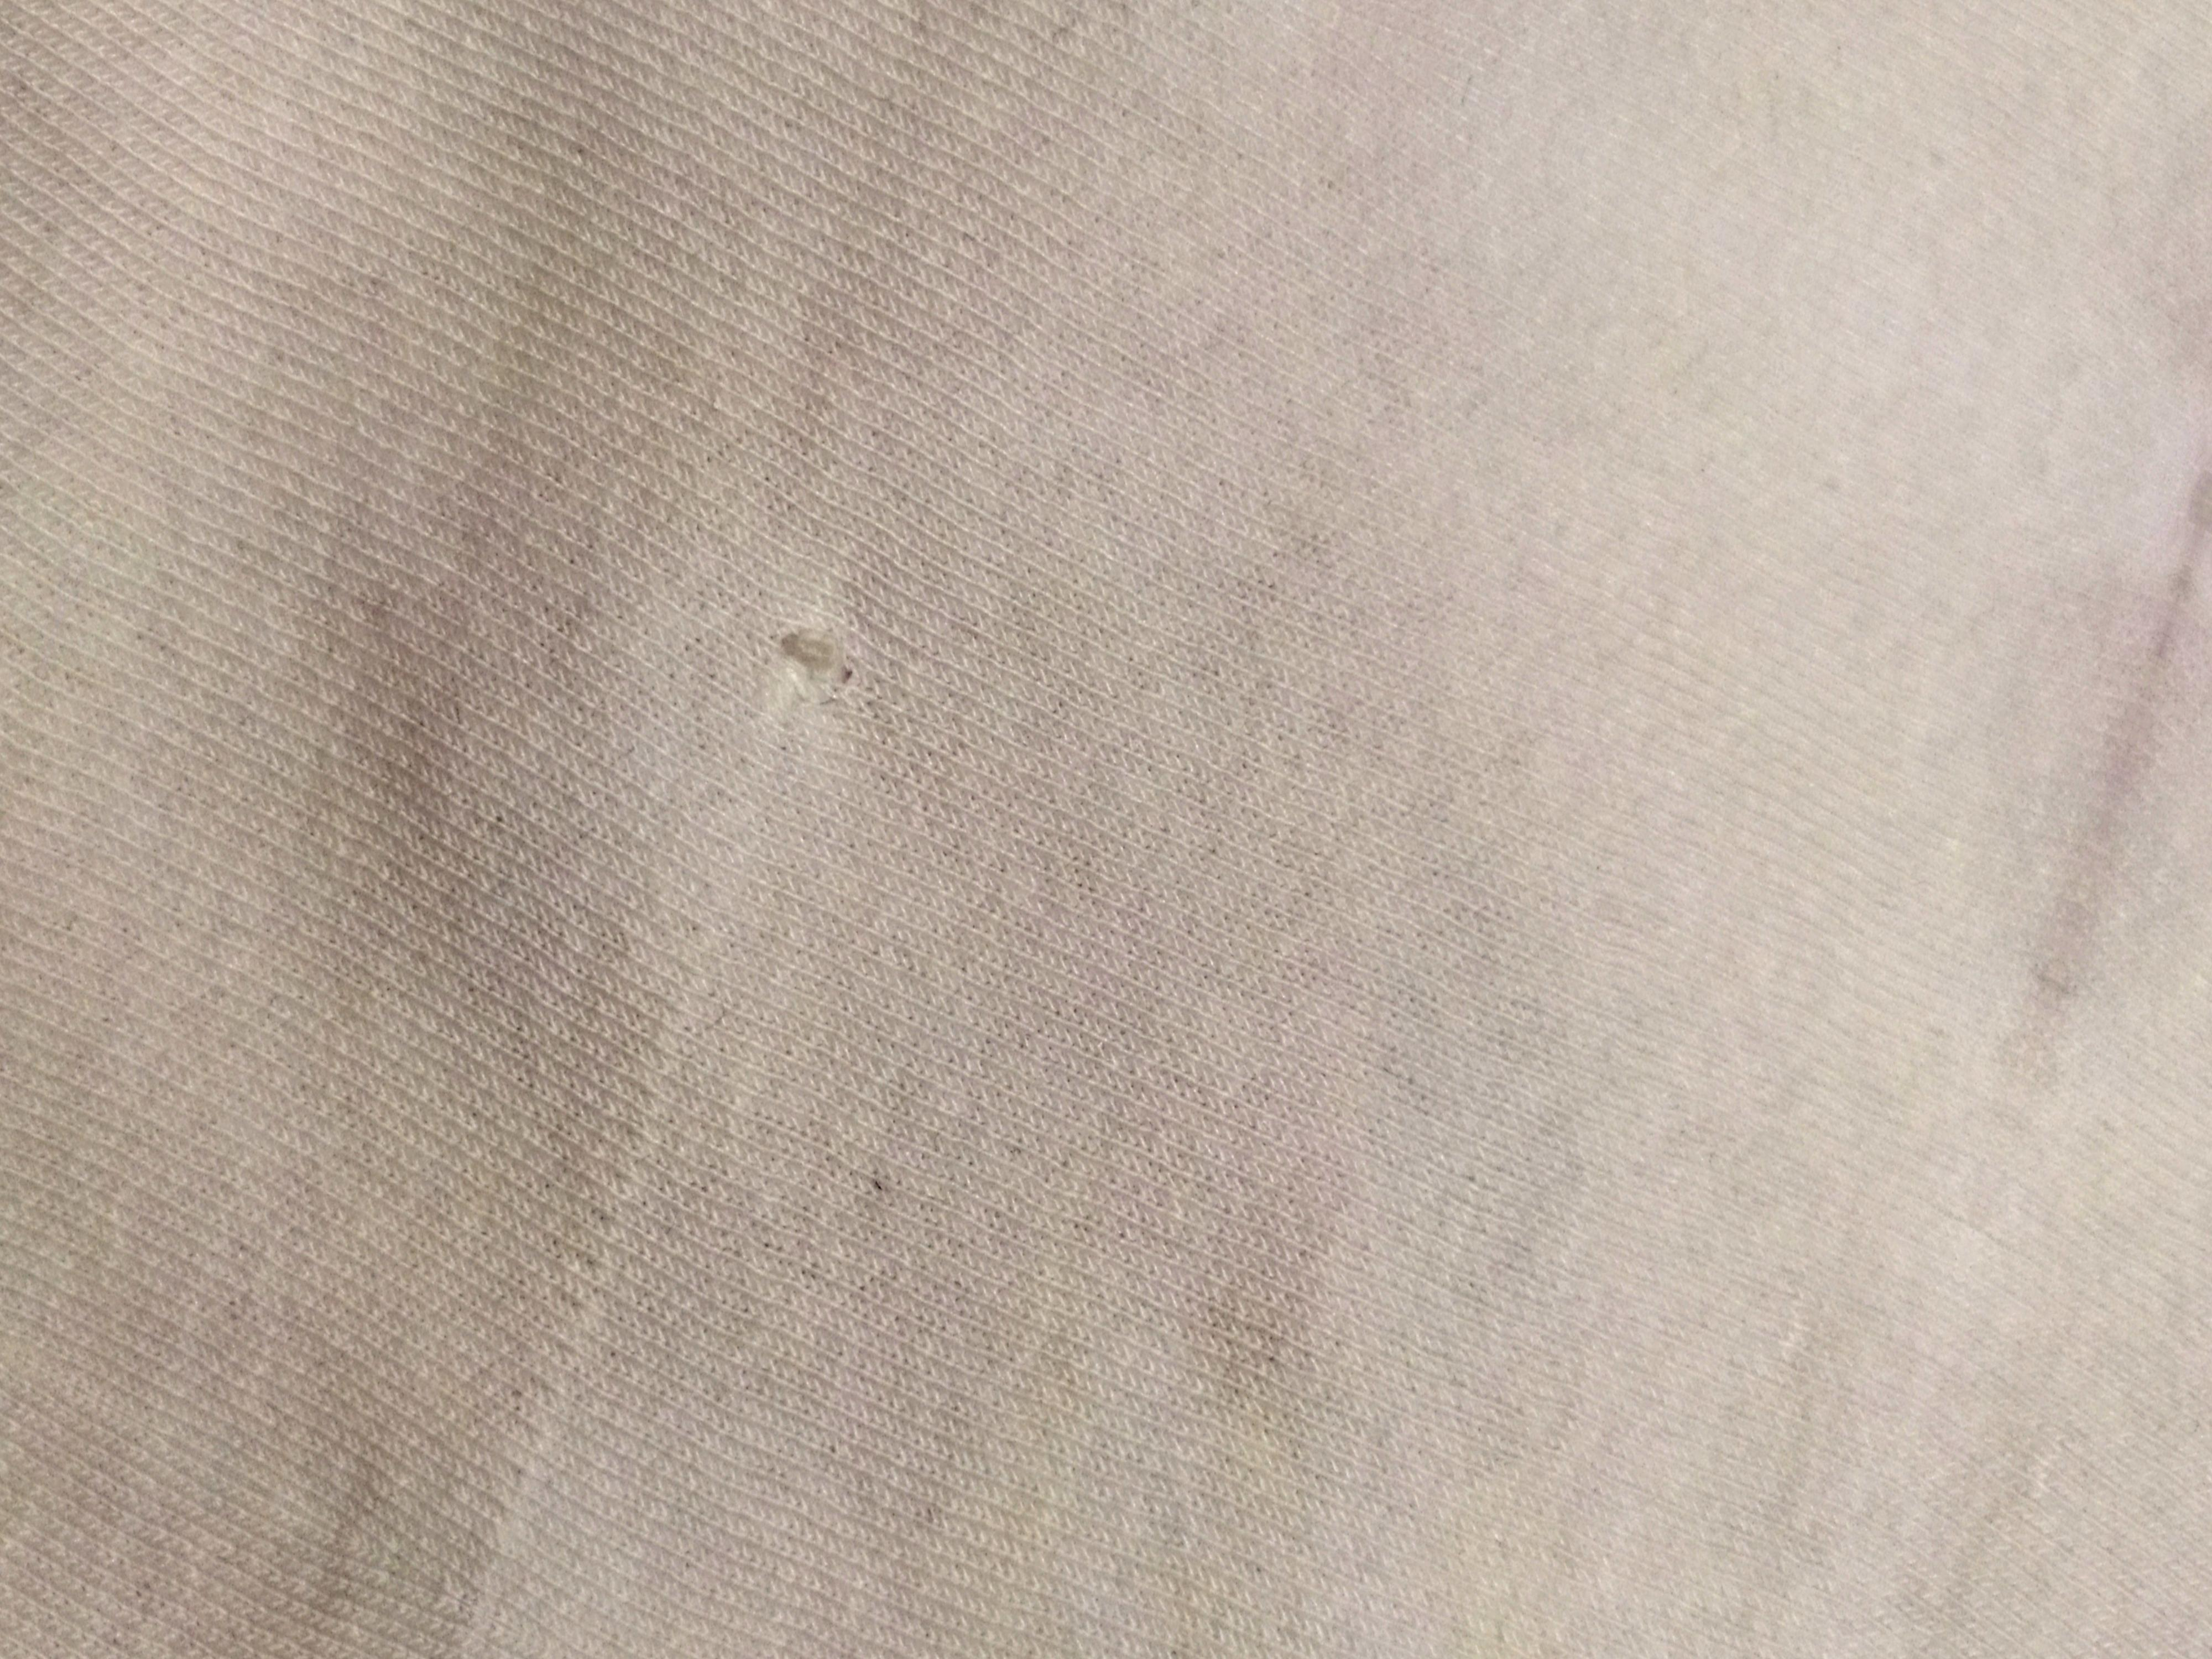knot: (726, 591, 925, 755)
